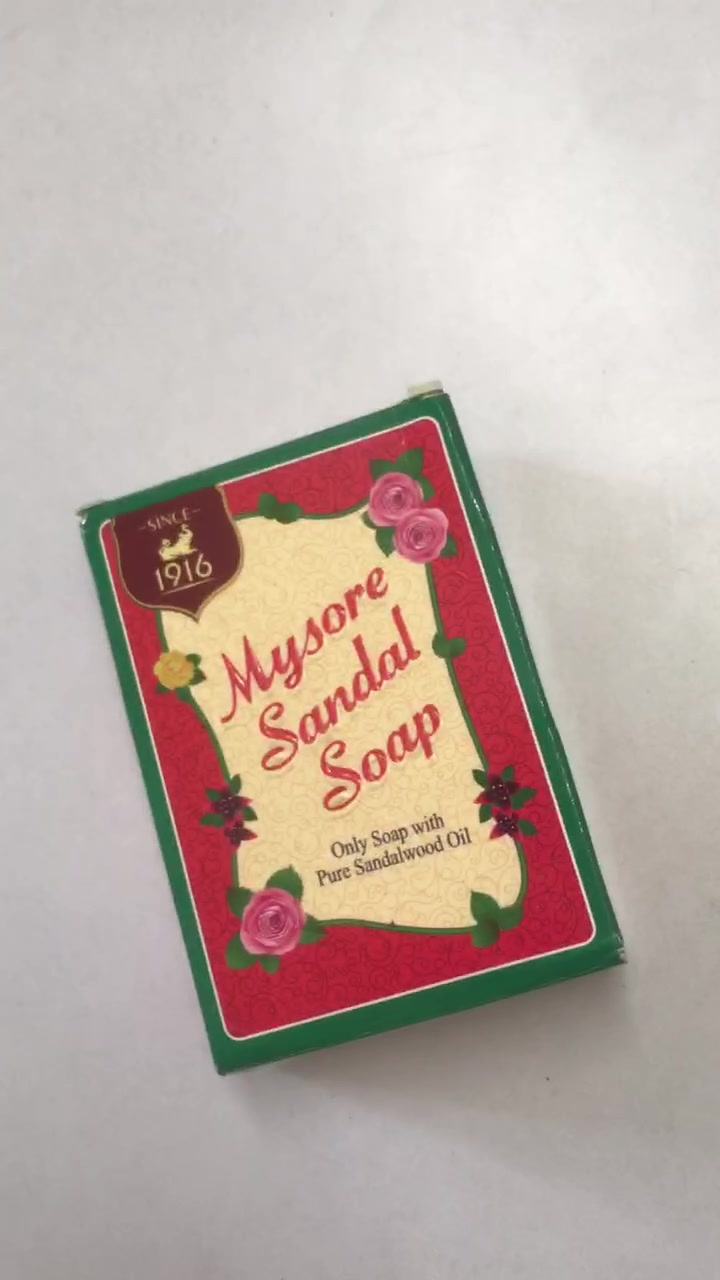mysore sandal soap: (69, 392, 626, 1073)
